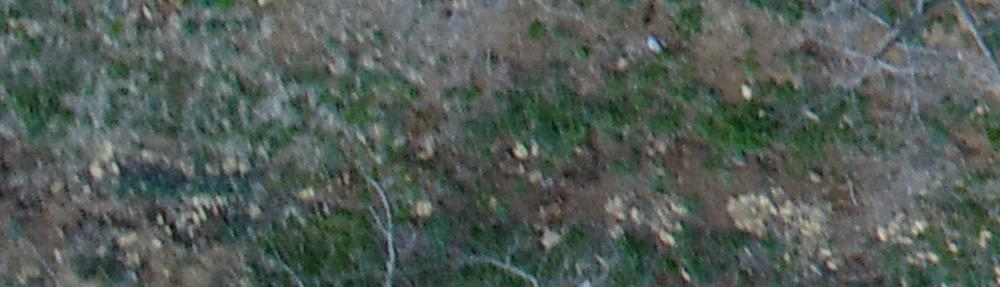apple: (729, 10, 990, 174)
